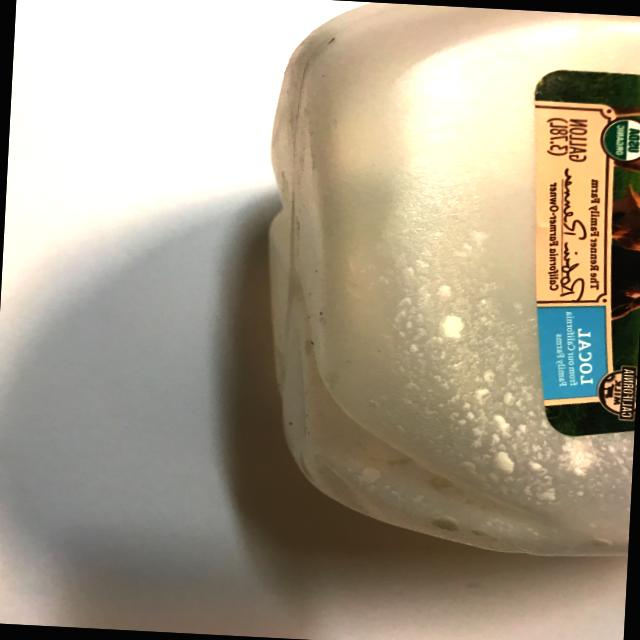Plastic: (189, 0, 640, 593)
